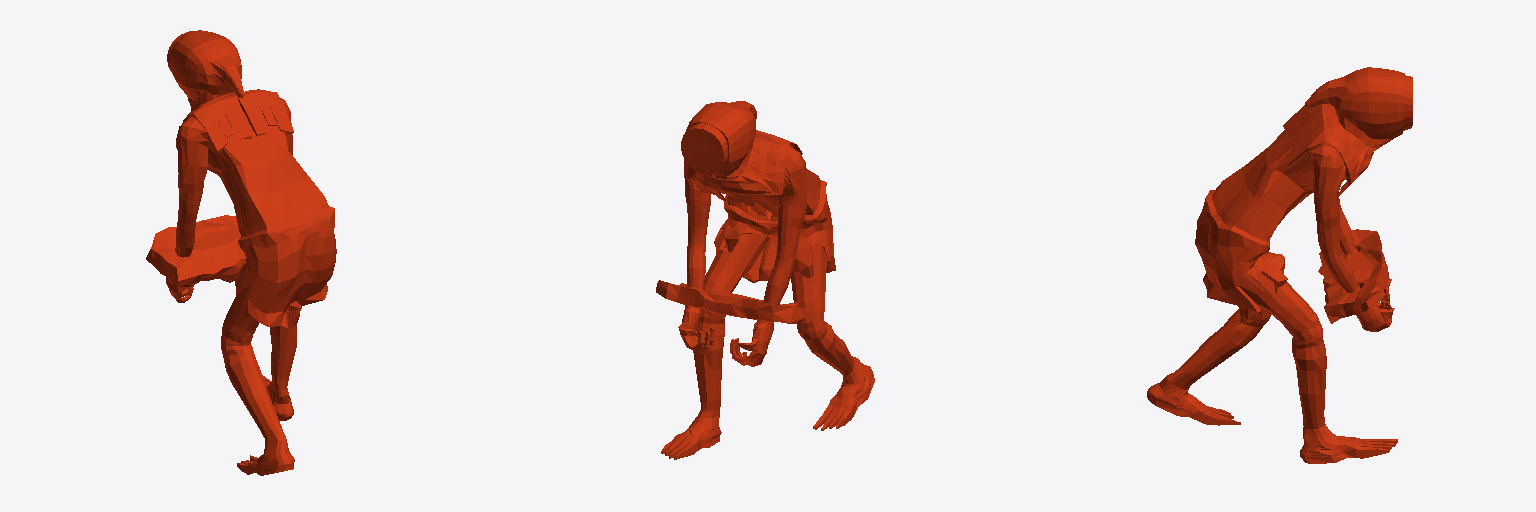
Rendered from basic.obj.
3 renders of one model, left to right at view 1: azimuth 30°, elevation 25°; view 2: azimuth 150°, elevation 25°; view 3: azimuth 270°, elevation 25°, orthographic.
Visible parts, largest first — view 1: dyby.002; view 2: dyby.002; view 3: dyby.002.
Part boxes in pixels (left/top/right/bottom): dyby.002: left=146, top=30, right=336, bottom=475; dyby.002: left=656, top=101, right=874, bottom=459; dyby.002: left=1147, top=67, right=1412, bottom=463.
Size of the model in its own units: 1.25 by 3.23 by 2.13.